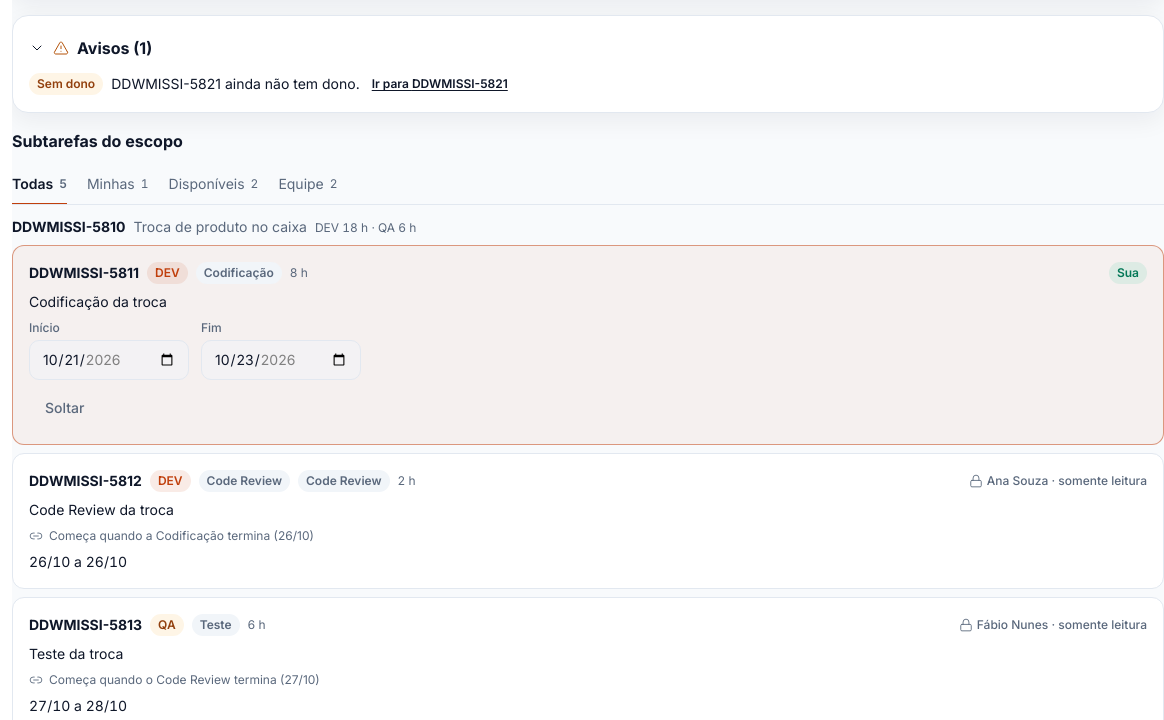
Test: Distribuição: datas e cascata › pré-valida: fim antes do início não deixa salvar; fim de semana é decisão do servidor
The image size is (1164, 720).
(page scrolled)
In the date field labelled "Fim": (281, 360) [201, 340, 361, 380], type "2026-10-20"
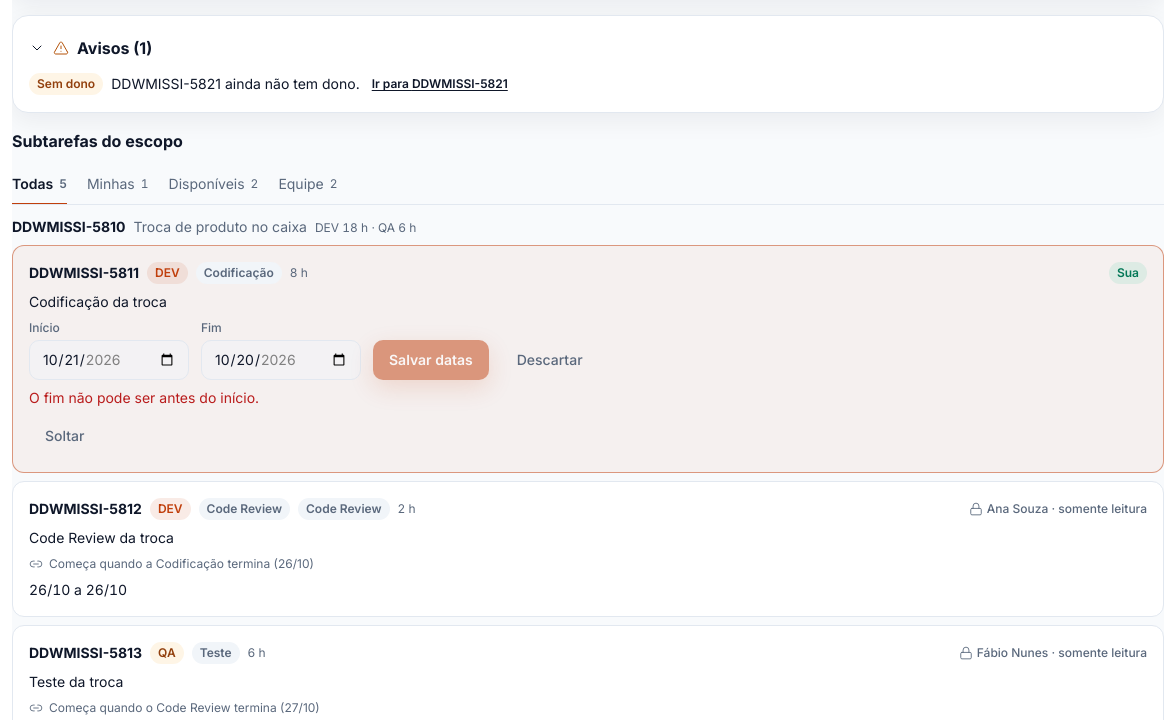
Expected: the message shows "antes", [29, 389, 259, 406]
Expected: the button "Salvar datas" is disabled, [373, 340, 489, 380]
In the date field labelled "Fim": (281, 360) [201, 340, 361, 380], type "2026-10-24"
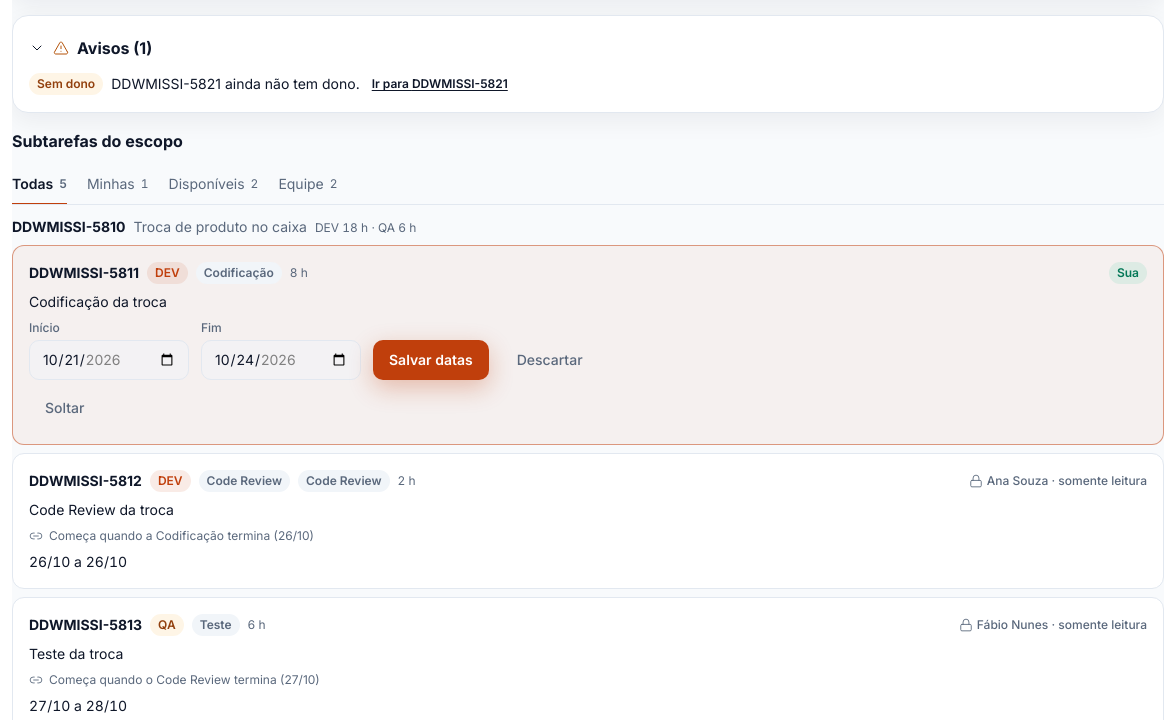
Expected: the message "O fim não pode ser antes do início." is gone
Expected: the button "Salvar datas" is enabled, [373, 340, 489, 380]
